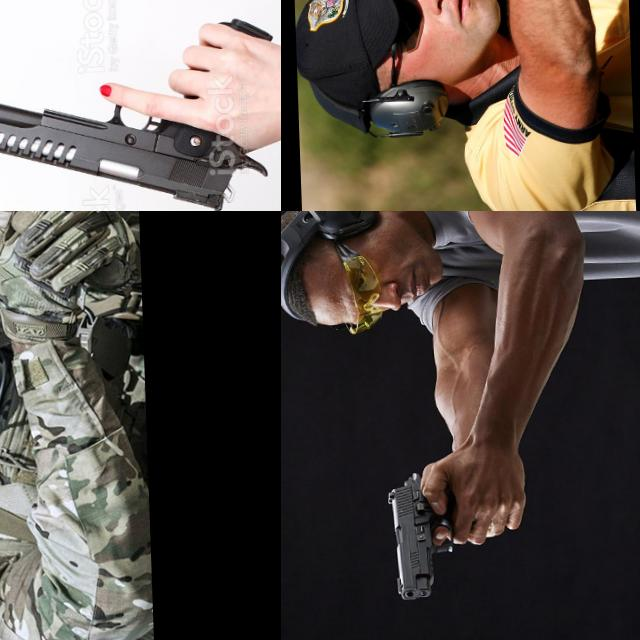handgun: (0, 88, 269, 211), (380, 467, 458, 602), (0, 211, 59, 303), (413, 0, 484, 65)
